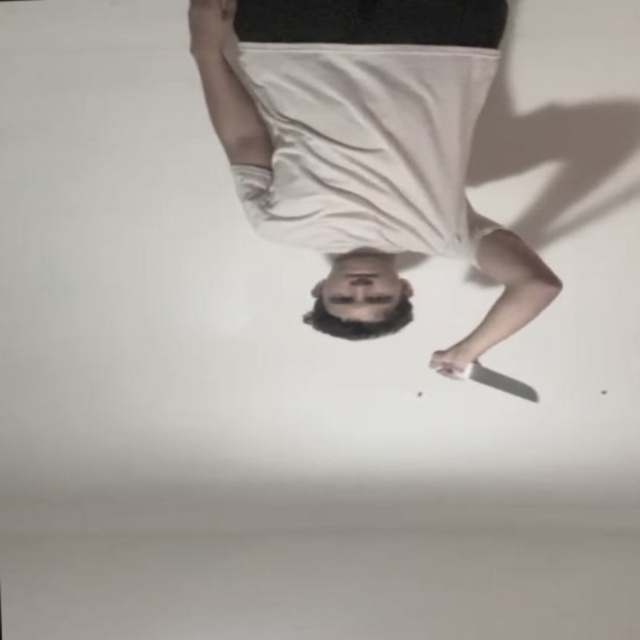Sharp-Object: (461, 364, 548, 406)
